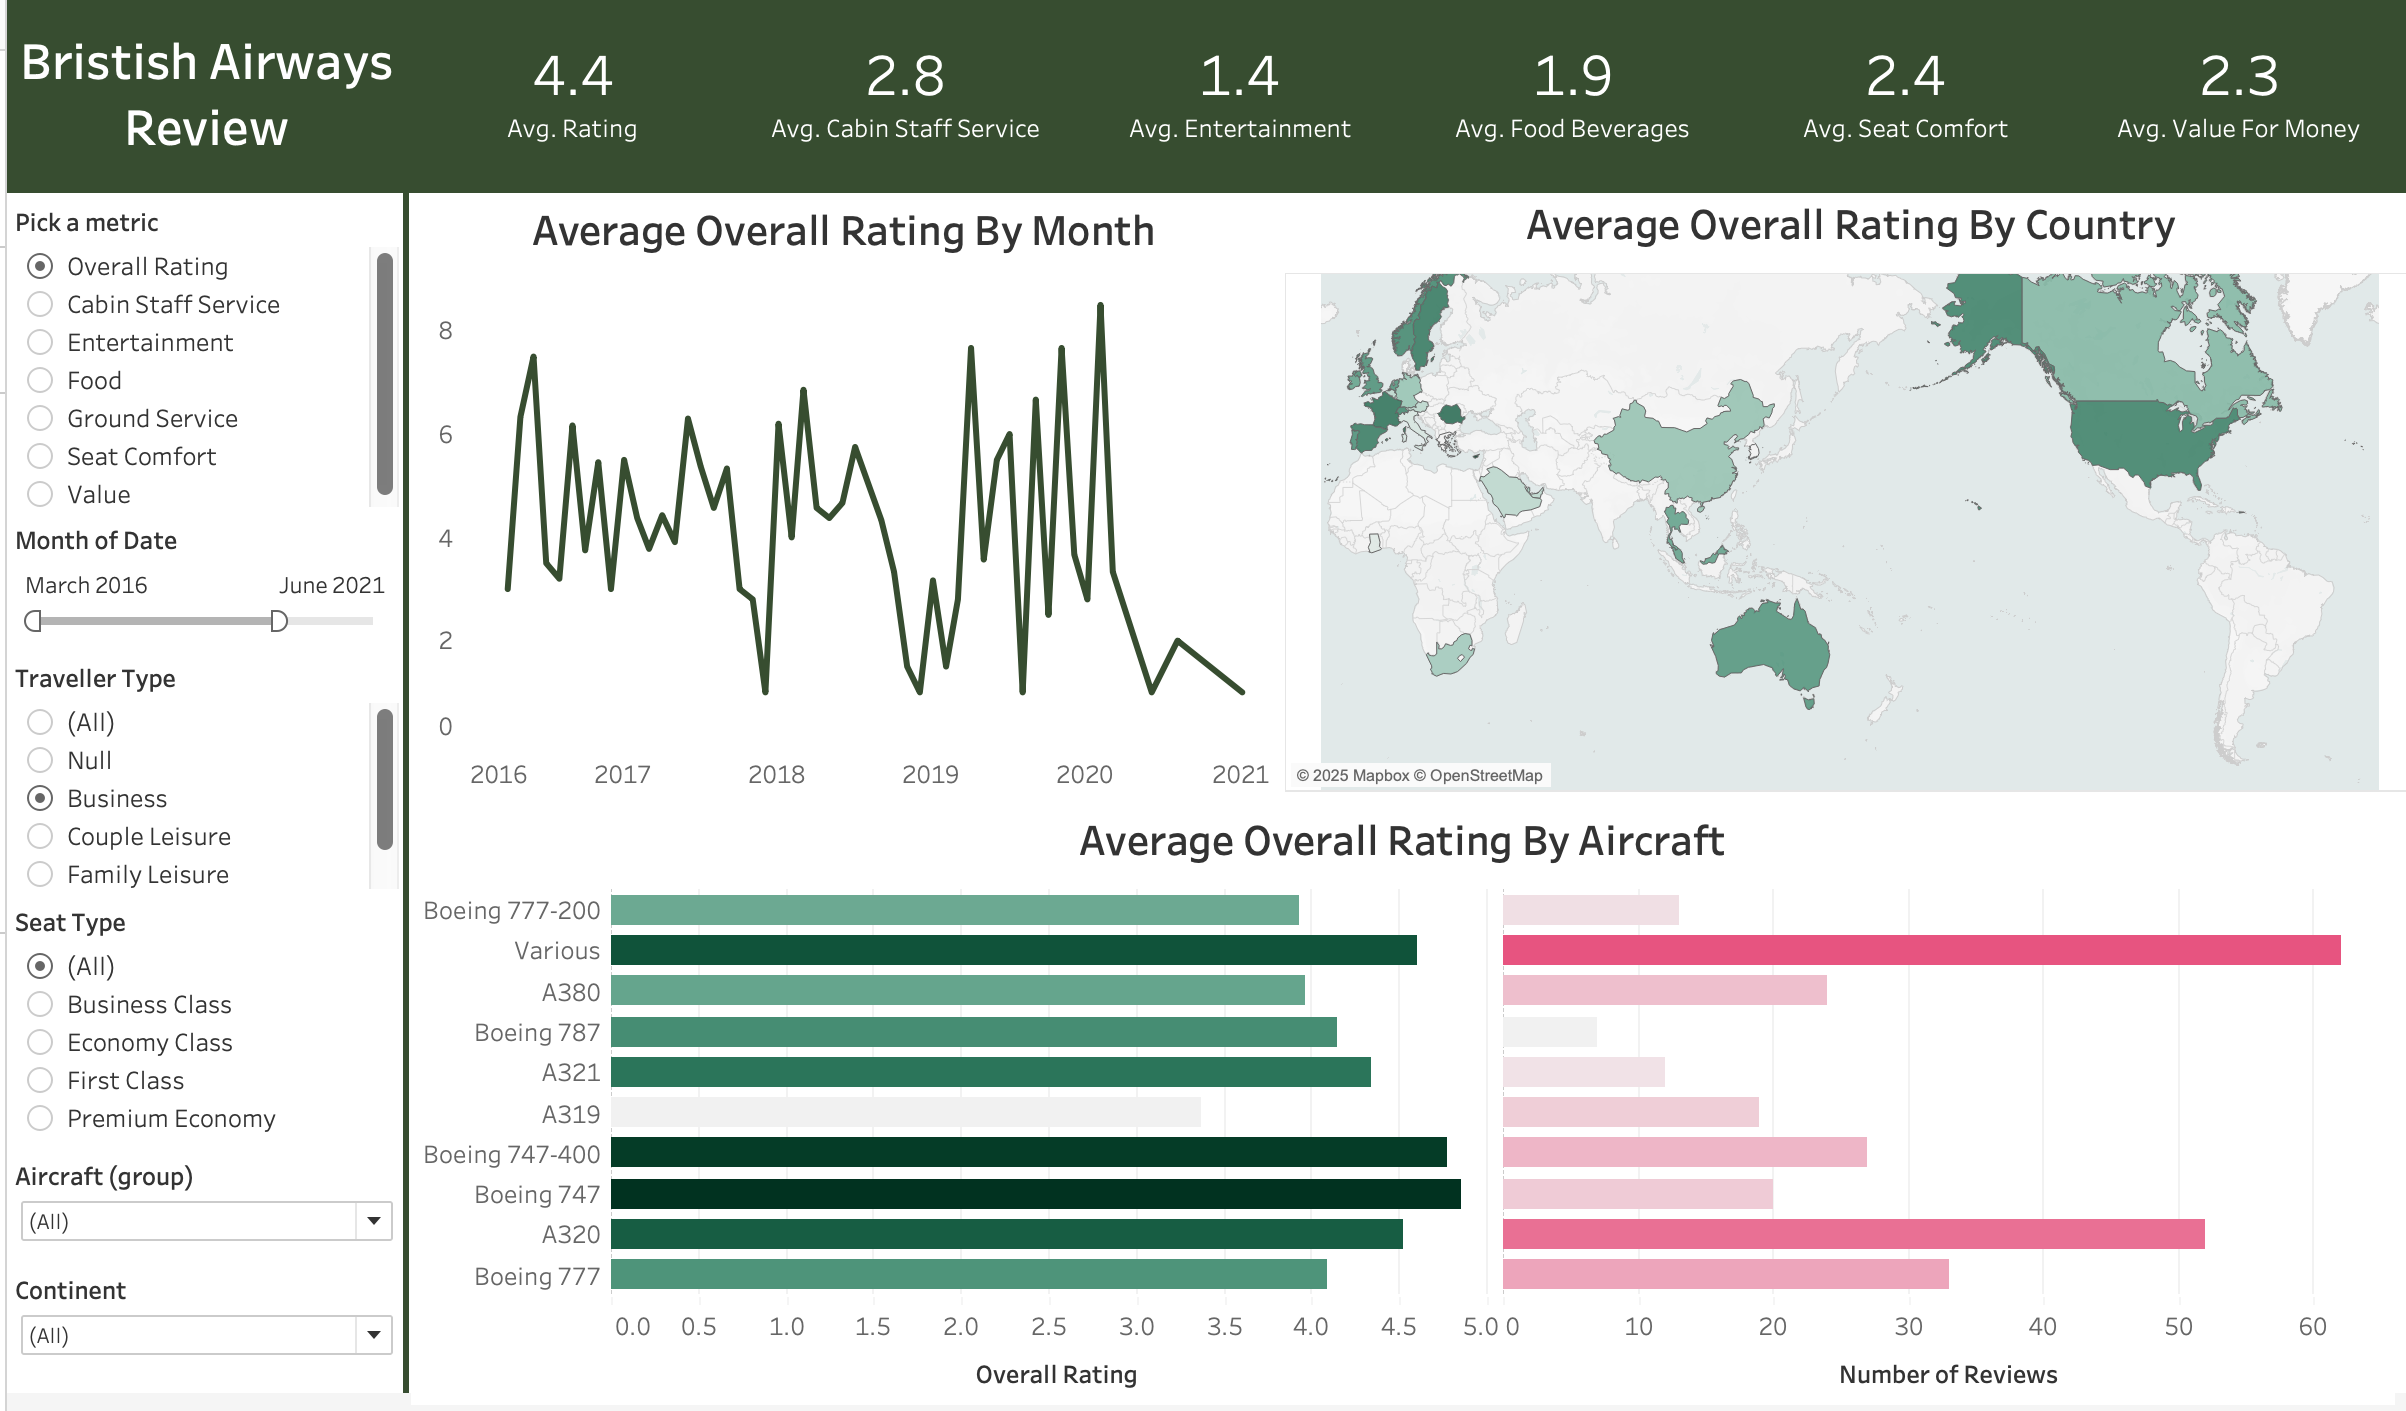

The page's visual inventory and layout, read from the dashboard file:
{"tool":"tableau","page":{"name":"Dashboard 1","canvas":[1200,700],"ordinal":0},"visuals":[{"type":"text","box":[0,0,200,100]},{"type":"blank","box":[198,63,3,637]},{"type":"worksheet","title":"Map","mark":"Automatic","box":[639,97,566,303]},{"type":"worksheet","title":"Month","mark":"Automatic","rows":["Calculation_1356076075263176704"],"cols":["date"],"box":[200,100,437,305]},{"type":"parameter","param":"[Parameters].[Parameter 1]","box":[0,102,200,159]},{"type":"filter","title":"Map","param":"[federated.0l6j0521moxryc1a1xmzg0xkkyru].[tmn:date:qk]","box":[0,261,200,69]},{"type":"filter","title":"Map","param":"[federated.0l6j0521moxryc1a1xmzg0xkkyru].[none:traveller_type:nk]","box":[0,330,200,122]},{"type":"filter","title":"Map","param":"[federated.0l6j0521moxryc1a1xmzg0xkkyru].[none:seat_type:nk]","box":[0,452,200,127]},{"type":"filter","title":"Map","param":"[federated.0l6j0521moxryc1a1xmzg0xkkyru].[Aircraft (group)]","box":[0,579,200,57]},{"type":"filter","title":"Map","param":"[federated.0l6j0521moxryc1a1xmzg0xkkyru].[none:Continent:nk]","box":[0,636,200,52]}]}

Visuals, with their boxes in screenshot pixels (x1, y1, x2, y2), scaled from the page's 1200x700 canvas onto the 2406x1411 screenshot:
text: <region>0, 0, 401, 202</region>
blank: <region>397, 127, 403, 1410</region>
"Map" worksheet: <region>1281, 196, 2405, 806</region>
"Month" worksheet: <region>401, 202, 1277, 816</region>
parameter: <region>0, 206, 401, 526</region>
"Map" filter: <region>0, 526, 401, 665</region>
"Map" filter: <region>0, 665, 401, 911</region>
"Map" filter: <region>0, 911, 401, 1167</region>
"Map" filter: <region>0, 1167, 401, 1282</region>
"Map" filter: <region>0, 1282, 401, 1387</region>
